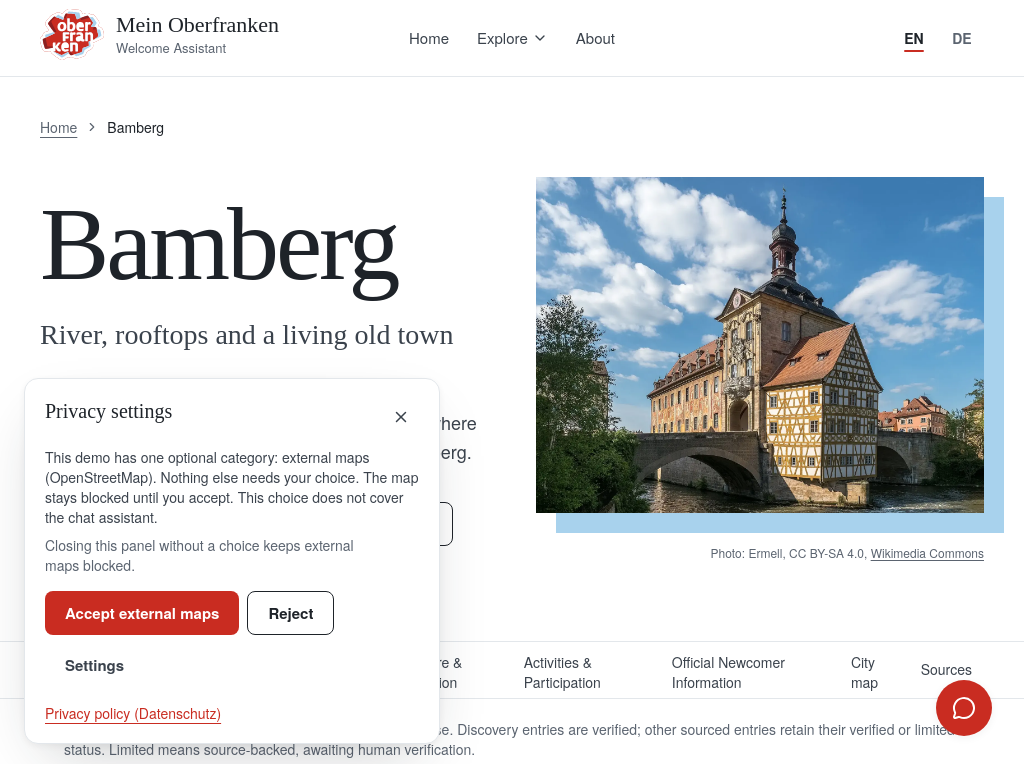
Test: sources in the chat › marks limited sources visibly and leaves verified ones unmarked
The width and height of the screenshot is (1024, 764).
Click the button named "Open the welcome assistant" at (964, 708), box [936,680,992,736]
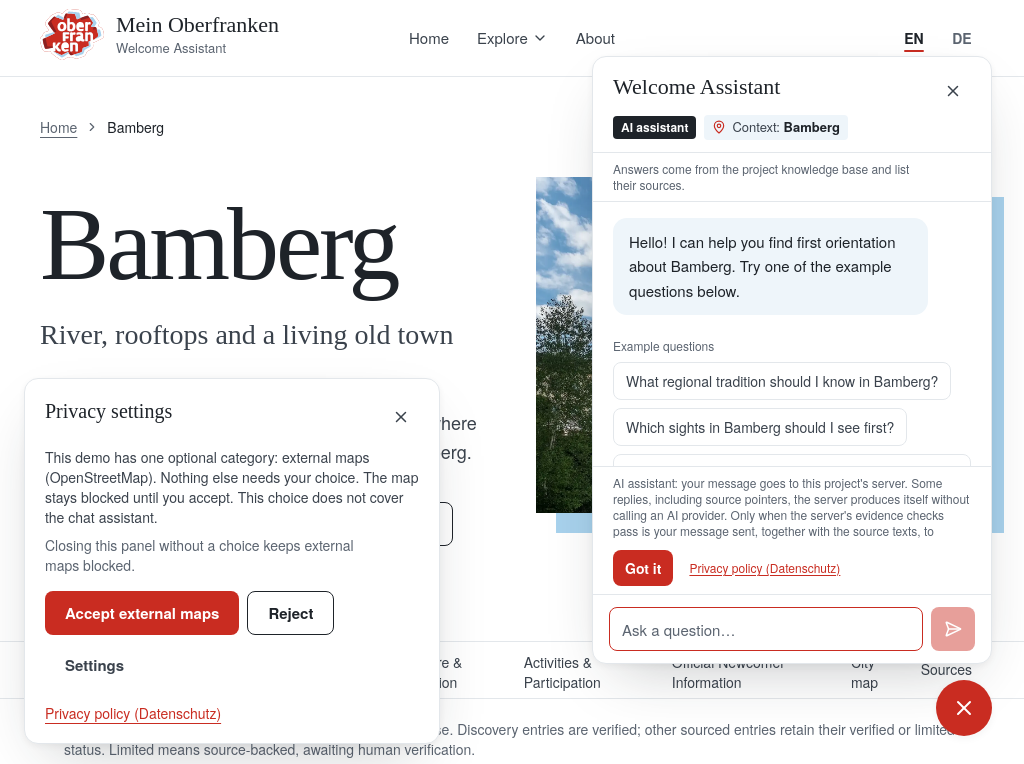
Type "Anything else?" into the field named "Your message" at (766, 629), box [609,607,923,651]
Then press Enter
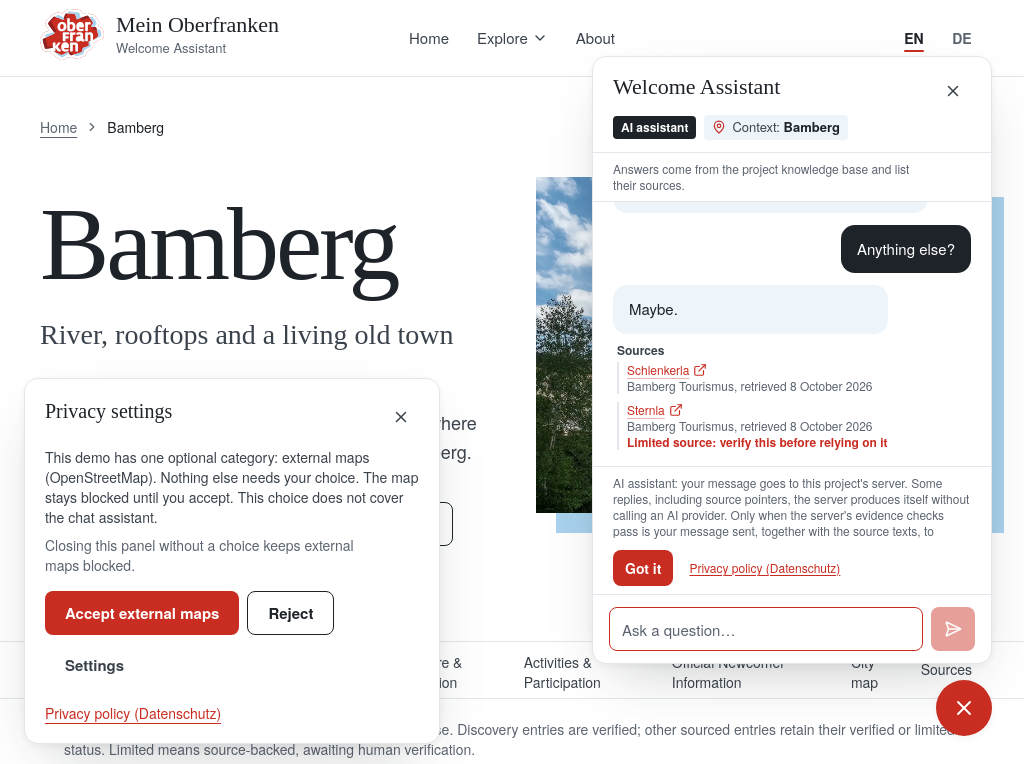
Expected: the text "Limited source" is not shown
Expected: the text "Maybe." is shown, [613,285,888,334]
Expected: the text "Limited source: verify this before relying on it" is shown once, [627,434,888,450]
